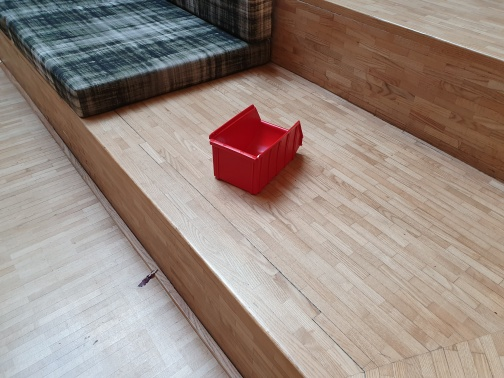tray_left: (256, 118, 305, 194)
